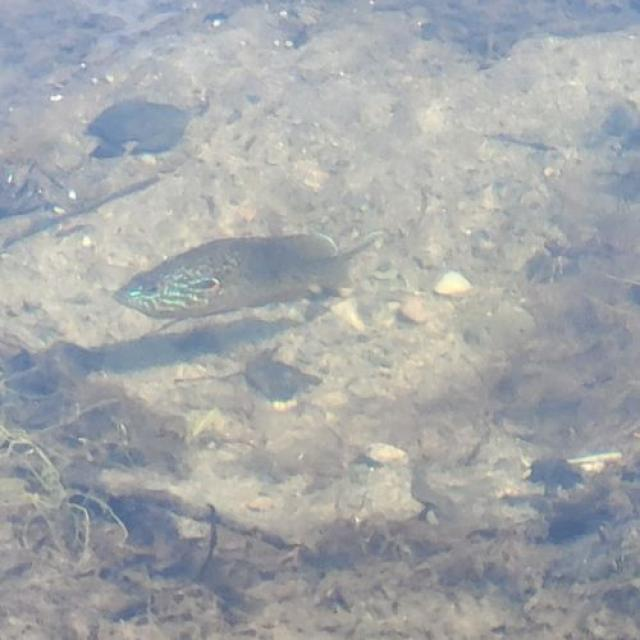Gunes Levregi: (114, 227, 408, 326)
